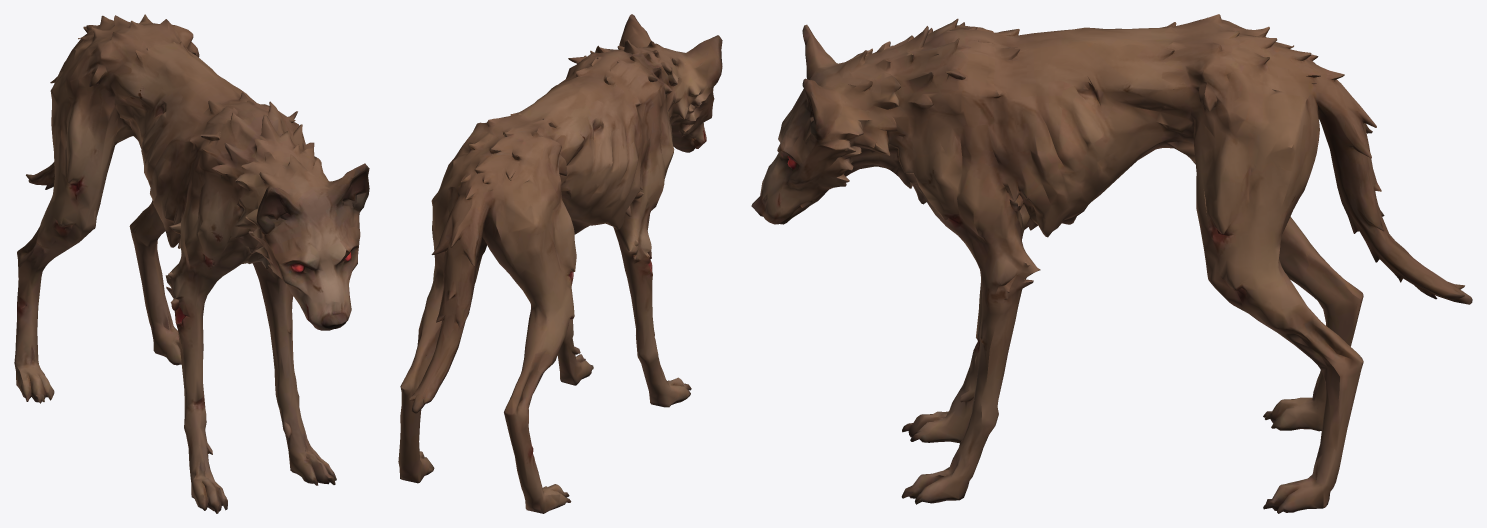
Rendered from dog_feral_odinochnaya_idle.glb.
3 renders of one model, left to right at view 1: azimuth 30°, elevation 25°; view 2: azimuth 150°, elevation 25°; view 3: azimuth 270°, elevation 25°, orthographic. The views are drawn at different scales.
Parts seen in each view (by area): view 1: tripo_node_0fb24836-e3fd-44c9-935b-4a1d0f685544; view 2: tripo_node_0fb24836-e3fd-44c9-935b-4a1d0f685544; view 3: tripo_node_0fb24836-e3fd-44c9-935b-4a1d0f685544.
Part boxes in pixels (x1,y1,x2,y2): tripo_node_0fb24836-e3fd-44c9-935b-4a1d0f685544: [14, 14, 369, 513]; tripo_node_0fb24836-e3fd-44c9-935b-4a1d0f685544: [398, 14, 722, 513]; tripo_node_0fb24836-e3fd-44c9-935b-4a1d0f685544: [751, 14, 1472, 513].
Bounding box in the file's own units: 0.2915 × 0.6 × 0.8857.
Materials: 1 (1 with a texture image).
